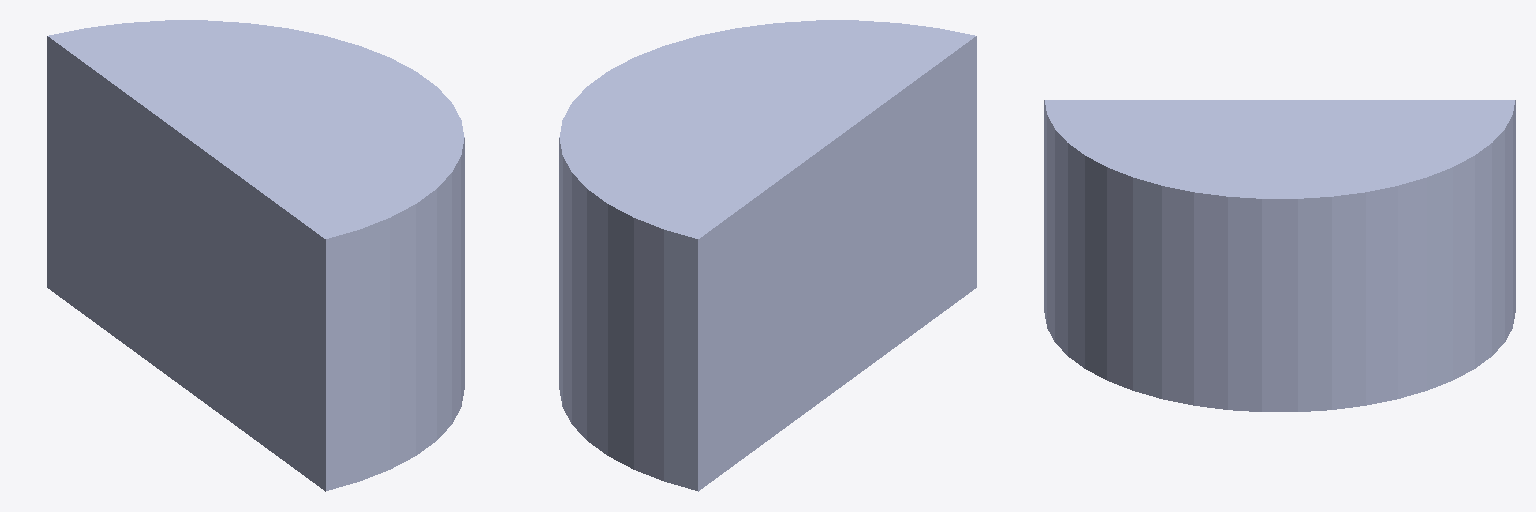
The robot description file, URDF, robot "semicircle":
<robot
  name="semicircle">
  <link
    name="semicircle">
    <inertial>
      <origin
        xyz="0.021221 0.049975 0.025"
        rpy="0 0 0" />
      <mass
        value="0.19635" />
      <inertia
        ixx="0.000163624617374468"
        ixy="-2.24185538437832E-21"
        ixz="-1.0837527584673E-20"
        iyy="7.52052045456377E-05"
        iyz="2.1859504944489E-21"
        izz="0.000157017513232872" />
    </inertial>
    <visual>
      <origin
        xyz="0 0 0"
        rpy="1.5707963267949 0 0" />
      <geometry>
        <mesh
          filename="package://sawyer_gazebo_env/models/semicircle/semicircle.STL" />
      </geometry>
      <material
        name="">
        <color
          rgba="0.79216 0.81961 0.93333 1" />
      </material>
    </visual>
    <collision>
      <origin
        xyz="0 0 0"
        rpy="1.5707963267949 0 0" />
      <geometry>
        <mesh
          filename="package://sawyer_gazebo_env/models/semicircle/semicircle.STL" />
      </geometry>
    </collision>
  </link>

      <gazebo reference="semicircle">
      <material>Gazebo/Yellow</material>
      <mu1>1000</mu1>
      <mu2>1000</mu2>
  </gazebo>

</robot>

--- Render facts (derived) ---
Views: 3 orthographic renders of the robot side by side, from view 1: azimuth 30°, elevation 25°; view 2: azimuth 150°, elevation 25°; view 3: azimuth 270°, elevation 25°.
Robot: semicircle — 1 links, 0 joints (none); root link semicircle; default pose: all joints at 0.
Links seen in each view (by area): view 1: semicircle; view 2: semicircle; view 3: semicircle.
Link boxes in pixels (<box>): semicircle: <box>47,20,464,491</box>; semicircle: <box>559,20,976,491</box>; semicircle: <box>1044,100,1515,411</box>.
Bounding box of the posed robot: 0.0499 × 0.1 × 0.05 m (x, y, z).
Meshes: 1 distinct files referenced, 1 mesh visuals loaded (1 binary STL).